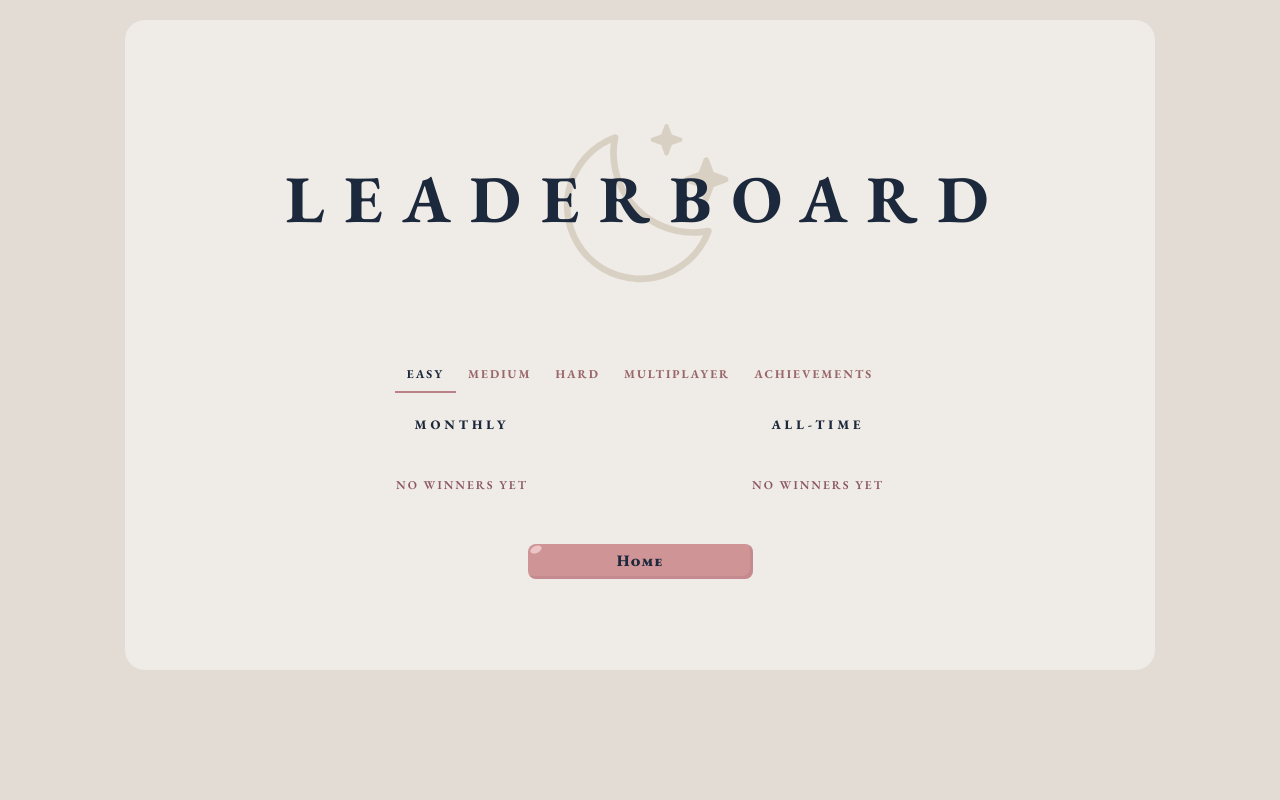
Scenario: Leaderboard placeholder › has empty monthly and all-time tables for every category
Expected: the text "No winners yet" is shown 2 times, [300,456,624,514]; [656,456,980,514]
Step 1. Click the button "hard" → (578, 375), box [544,357,612,393]
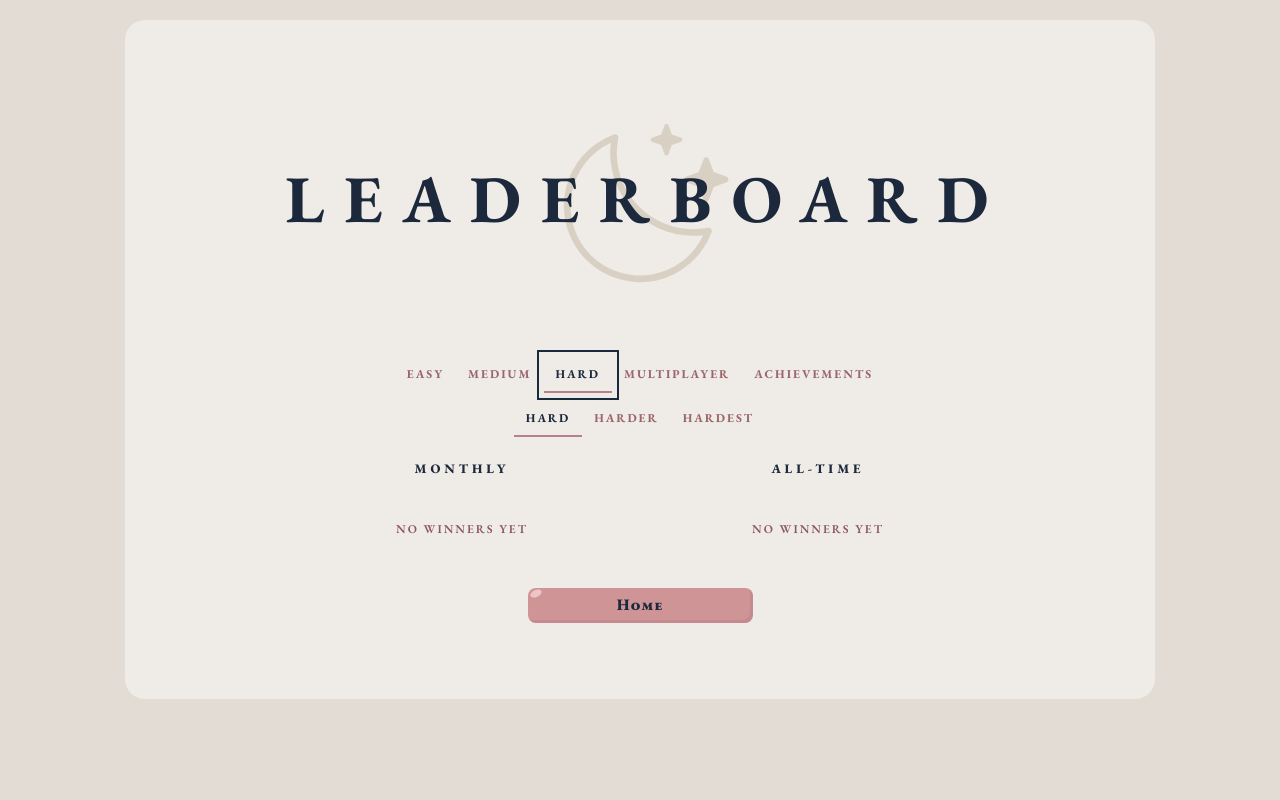
Step 2. Click the button "hardest" → (718, 419), box [671,401,766,437]
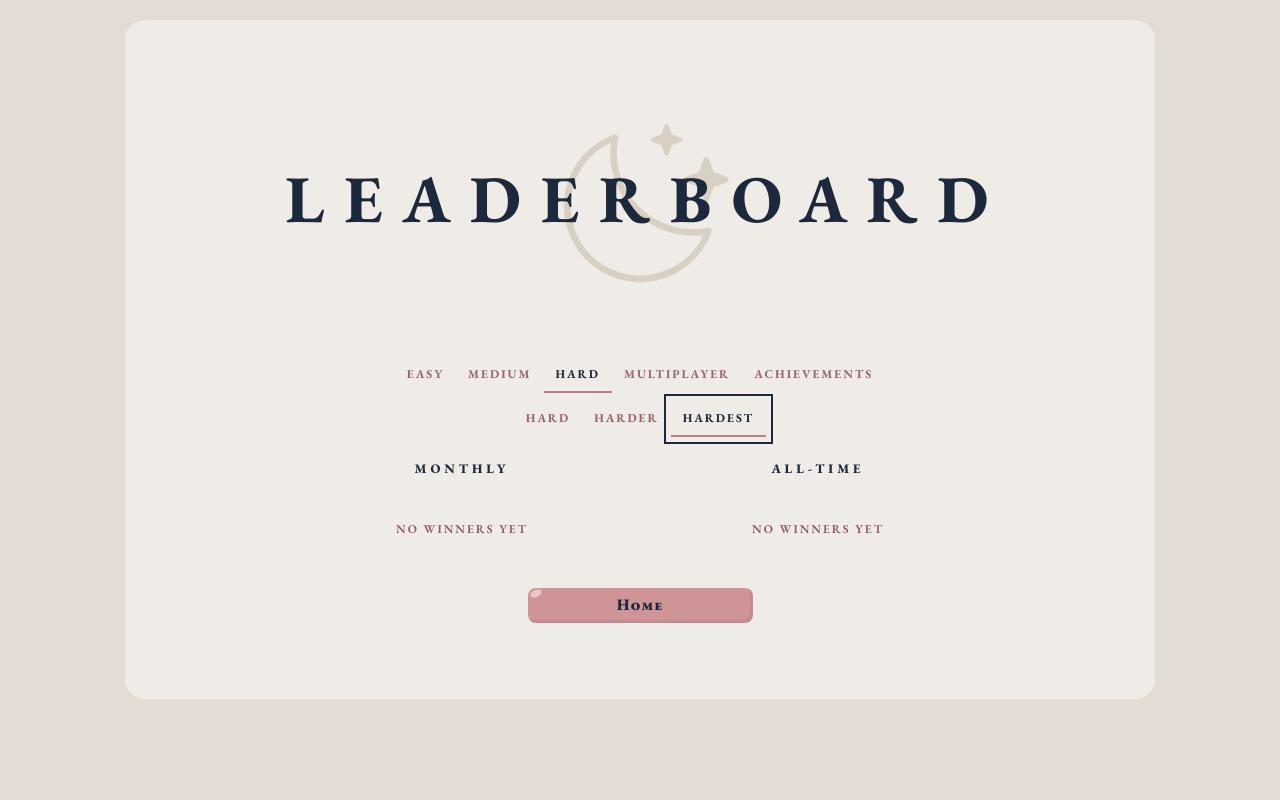
Expected: the table named "Monthly hardest winners" is shown, [300,488,624,564]
Step 3. Click the button "Multiplayer" → (677, 375), box [612,357,742,393]
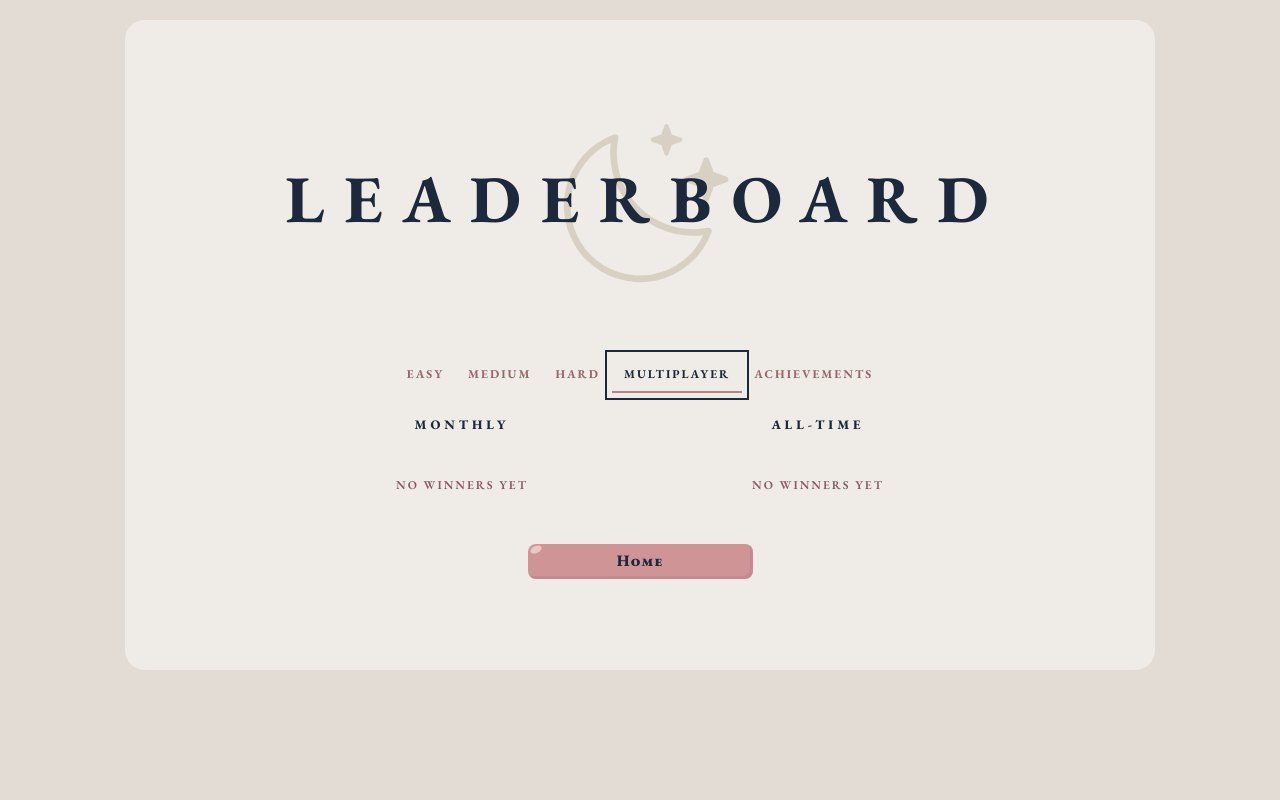
Expected: the table named "All-Time multiplayer winners" is shown, [656,444,980,520]
